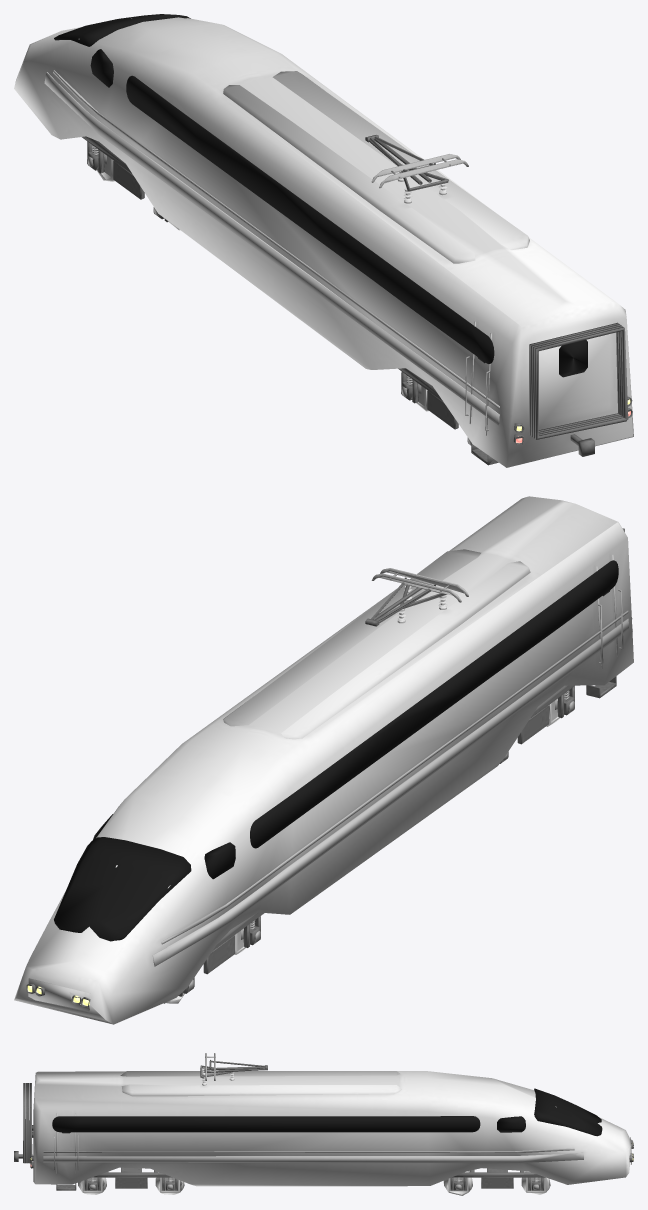
The model's file is high-speed-colored.glb.
3 renders of one model, top to bottom at view 1: azimuth 30°, elevation 25°; view 2: azimuth 150°, elevation 25°; view 3: azimuth 270°, elevation 25°, orthographic. The views are drawn at different scales.
Visible parts, largest first — view 1: high-speed-train_body, high-speed-train_window_glass; view 2: high-speed-train_body, high-speed-train_window_glass; view 3: high-speed-train_body, high-speed-train_window_glass.
Part boxes in pixels (bbox=[...]): high-speed-train_body: bbox=[14, 17, 633, 467]; high-speed-train_window_glass: bbox=[54, 14, 587, 377]; high-speed-train_body: bbox=[14, 496, 633, 1024]; high-speed-train_window_glass: bbox=[54, 560, 618, 941]; high-speed-train_body: bbox=[14, 1053, 633, 1195]; high-speed-train_window_glass: bbox=[52, 1088, 602, 1136].
Bounding box in the file's own units: 3 × 4.38 × 19.99.
4 materials, 1 textured.
